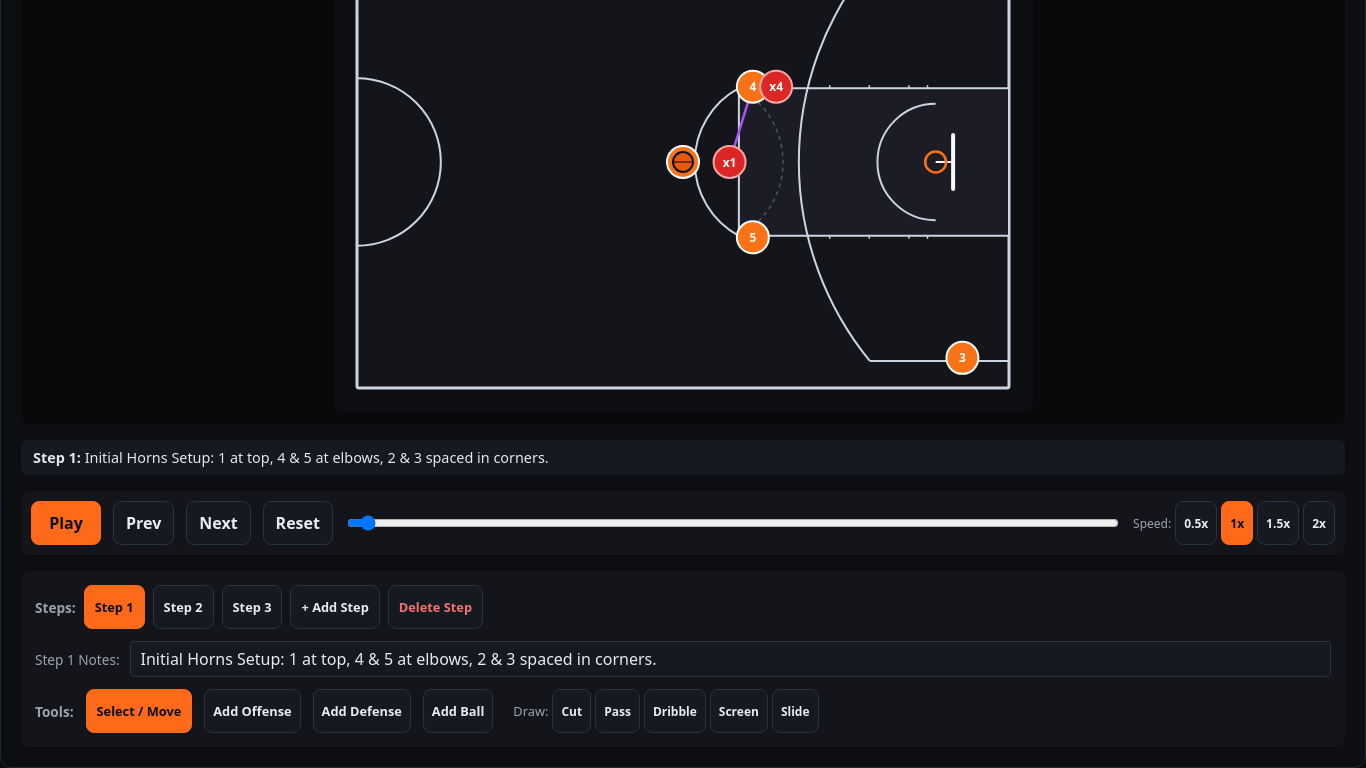
Playbook Tactical Lab (WP-4.2) › adds a new keyframe step dynamically in authoring workbench
(page scrolled)
Click the button "+ Add Step" at (335, 607), box [290,585,380,629]
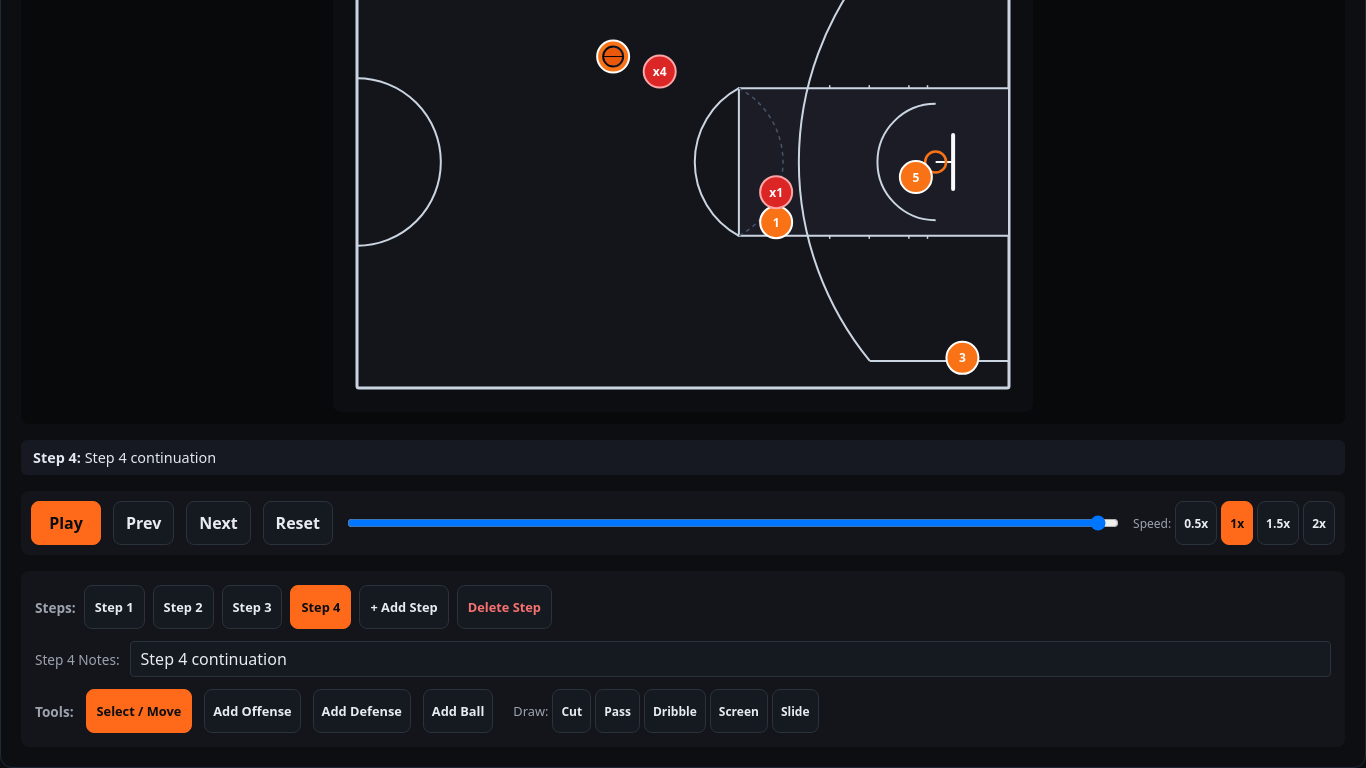
Now the button "Step 4" is shown, box [290,585,351,629]
